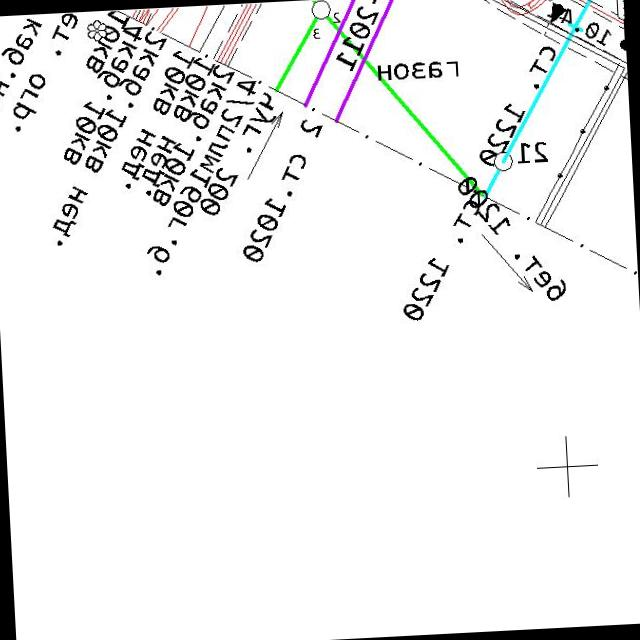bushes: (85, 18, 108, 42)
mark: (548, 1, 567, 25)
well: (492, 151, 515, 173), (310, 0, 332, 20)
